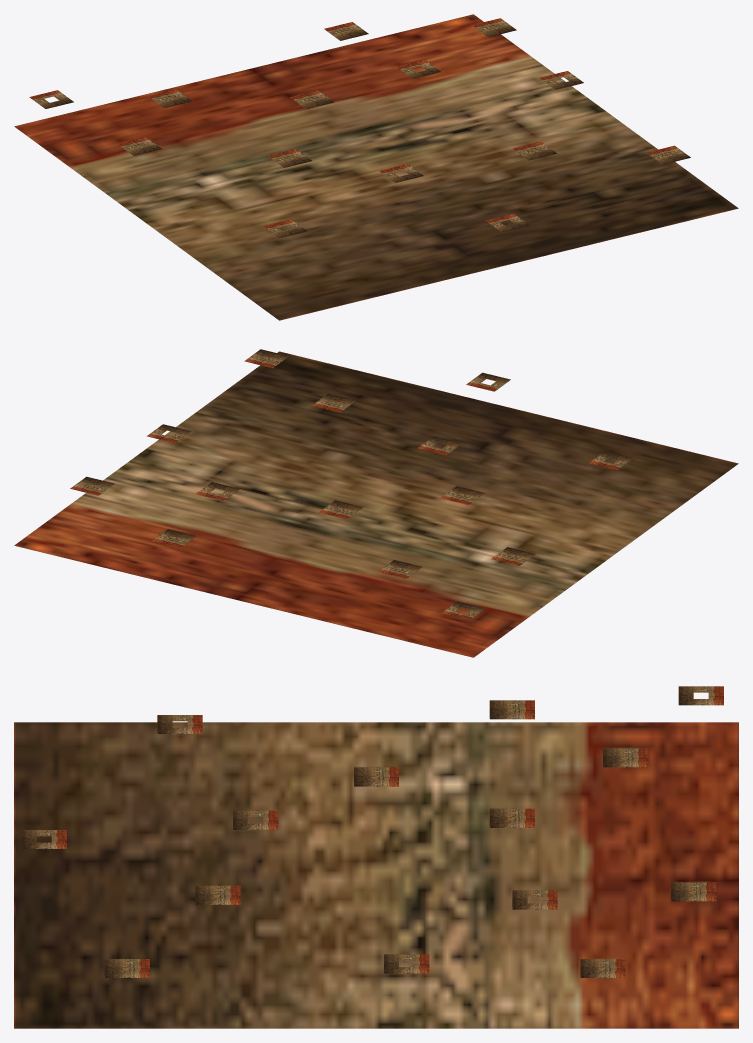
File: Lndmine2.glb
The picture shows the model from 3 angles, top to bottom: view 1: azimuth 30°, elevation 25°; view 2: azimuth 150°, elevation 25°; view 3: azimuth 270°, elevation 25°; orthographic projection. The views are drawn at different scales.
Parts seen in each view (by area): view 1: _Lndmine2; view 2: _Lndmine2; view 3: _Lndmine2.
Boxes of the visible parts, left/top/right/bottom form: _Lndmine2: left=14, top=14, right=738, bottom=320; _Lndmine2: left=14, top=349, right=738, bottom=657; _Lndmine2: left=14, top=686, right=738, bottom=1028.
Size of the model in its own units: 16 by 1.16 by 16.
Materials: 1 (1 with a texture image).
